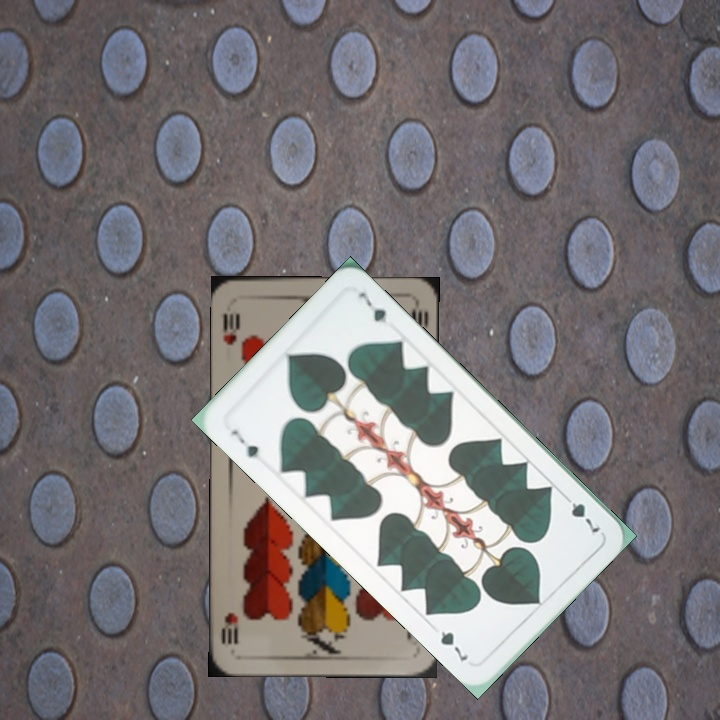G7: (558, 489, 603, 536), (225, 425, 262, 462)
H10: (218, 309, 242, 348)
